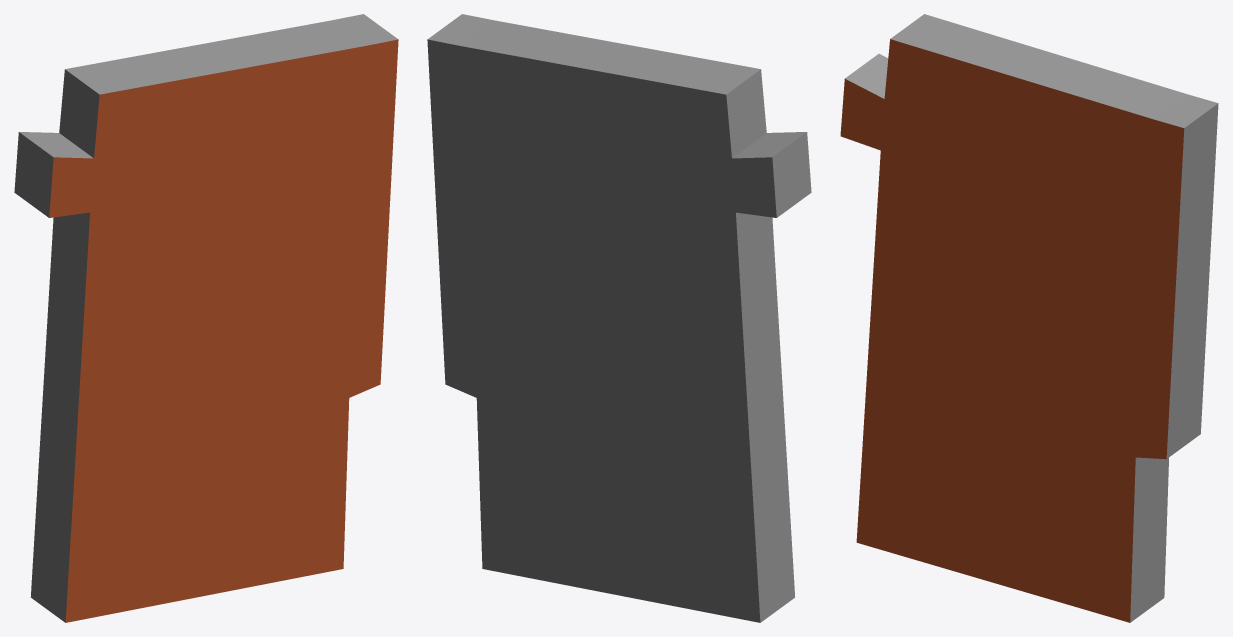
File: construction_0708_assumed_A_Casa_h6m.obj
3 views of the same model, side by side, from view 1: azimuth 30°, elevation 25°; view 2: azimuth 150°, elevation 25°; view 3: azimuth 330°, elevation 25° (orthographic).
Visible parts, largest first — view 1: construction_0708_assumed_A_Casa; view 2: construction_0708_assumed_A_Casa; view 3: construction_0708_assumed_A_Casa.
Boxes of the visible parts, <box> form: construction_0708_assumed_A_Casa: <box>14,14,398,622</box>; construction_0708_assumed_A_Casa: <box>427,14,811,622</box>; construction_0708_assumed_A_Casa: <box>840,14,1218,622</box>.
Size of the model in its own units: 34.79 by 50.8 by 6.
